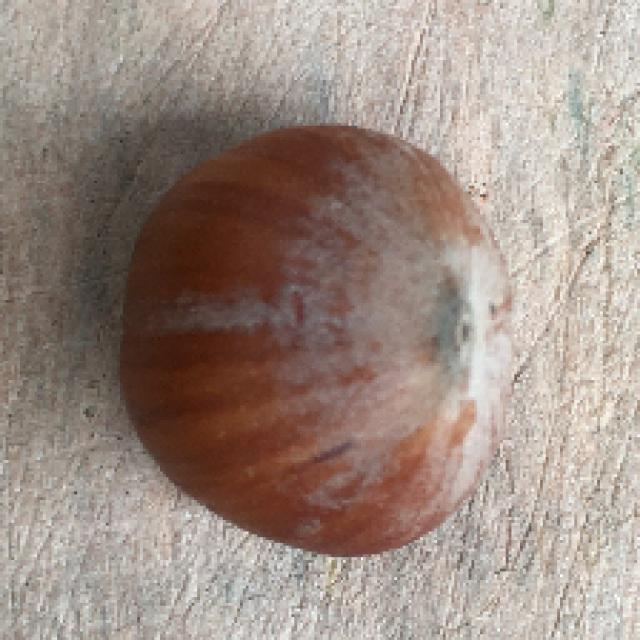qualityHazelnut: (114, 118, 523, 561)
